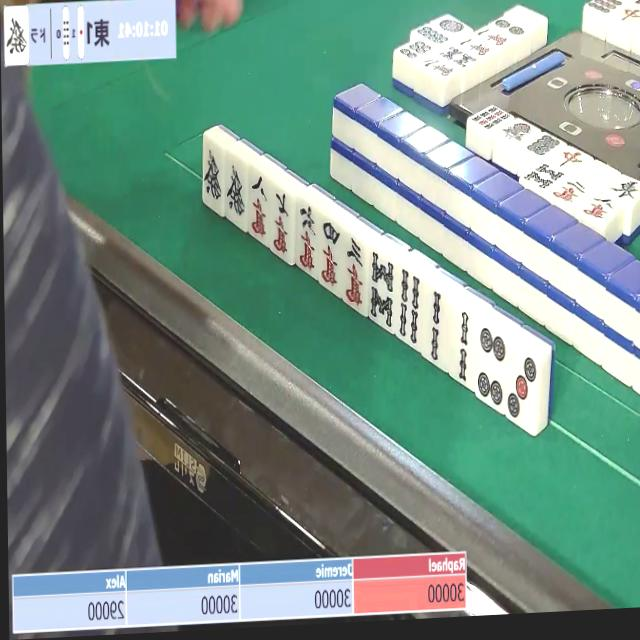1D: (432, 15, 469, 39)
2B: (420, 286, 449, 369), (450, 306, 476, 391)
3C: (339, 235, 368, 314)
3D: (506, 347, 540, 428)
4B: (393, 267, 422, 350)
4C: (315, 218, 344, 296)
4D: (474, 322, 509, 413)
6C: (293, 201, 319, 276)
7C: (267, 187, 296, 263)
8B: (366, 252, 398, 334)
8C: (246, 170, 269, 243)
9D: (470, 104, 514, 134)
GD: (224, 158, 248, 229), (1, 5, 27, 62), (203, 145, 223, 216)
